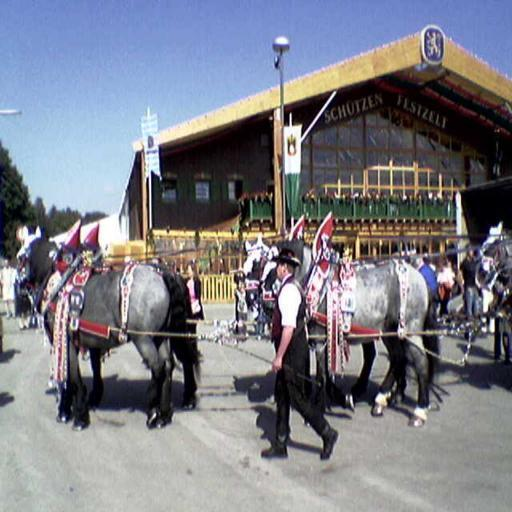horse: (14, 223, 202, 432), (258, 230, 441, 428)
